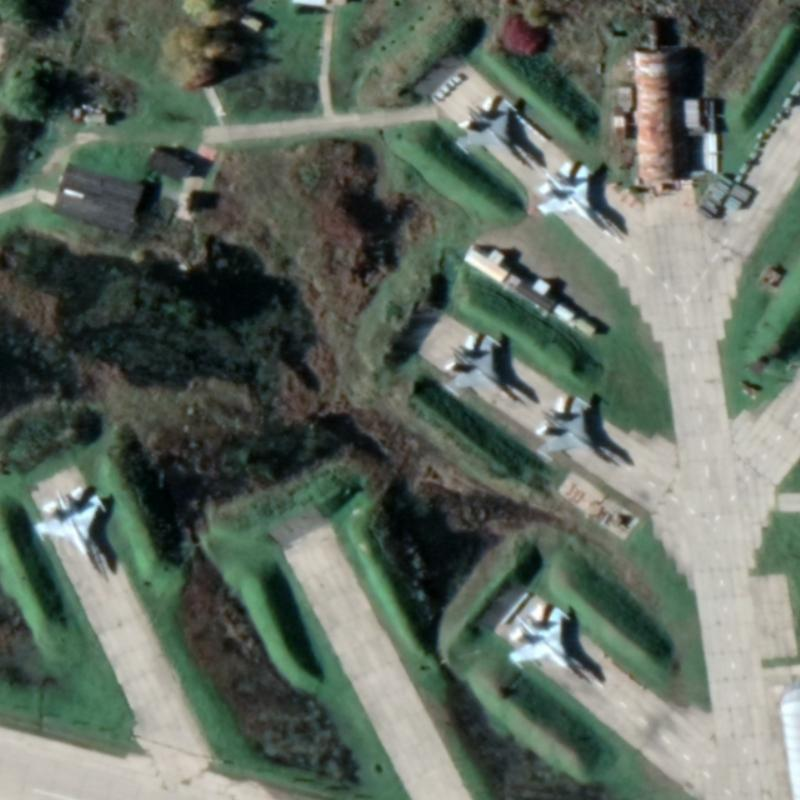A1: (30, 483, 109, 580), (504, 602, 590, 685), (532, 158, 616, 240), (437, 329, 522, 408), (531, 391, 614, 469), (452, 95, 533, 170)
